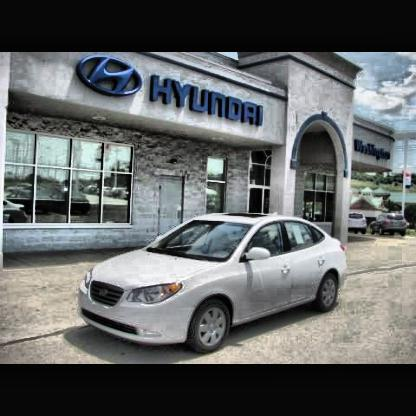Hyundai Elantra Sedan 2007: (81, 214, 346, 353)
